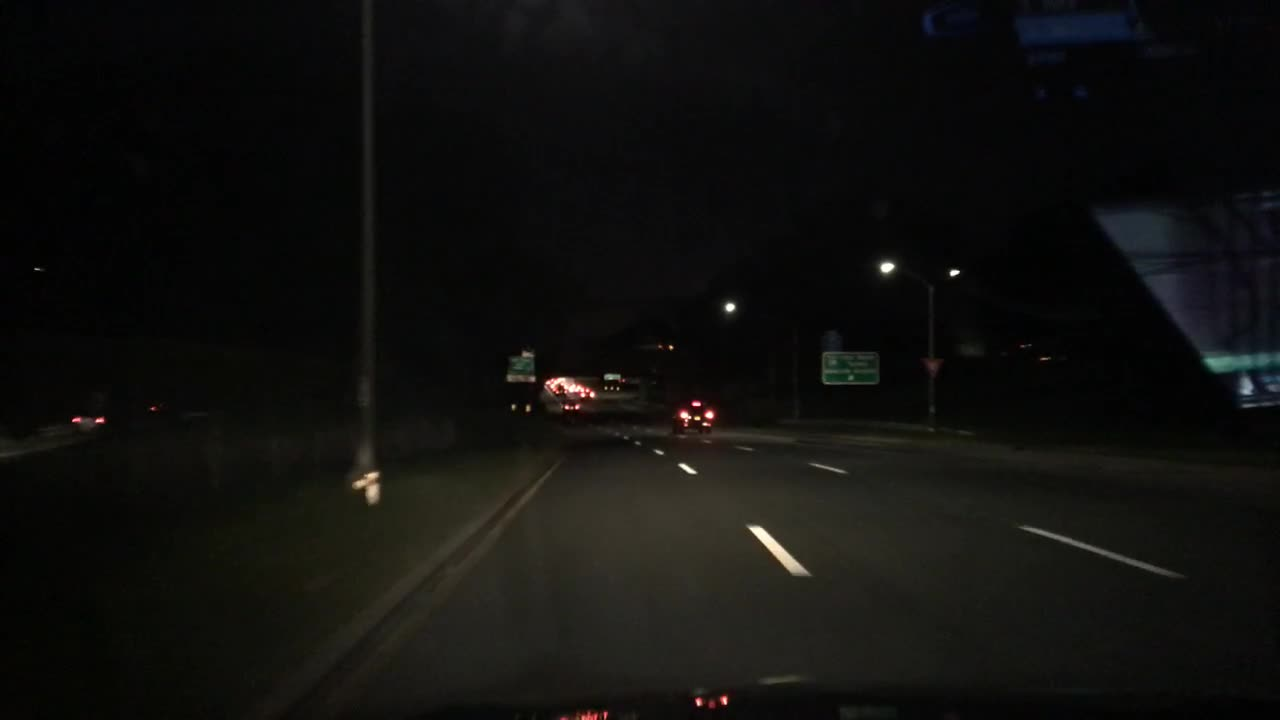car: (67, 399, 163, 439), (671, 397, 714, 434), (559, 397, 581, 415), (581, 387, 595, 399), (552, 384, 567, 395)
traffic sign: (820, 350, 880, 384), (506, 357, 534, 384), (924, 357, 943, 375), (603, 372, 622, 380), (521, 348, 536, 356)
